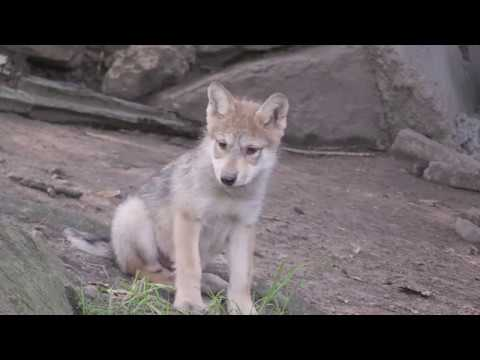Lobo: (127, 82, 304, 298)
